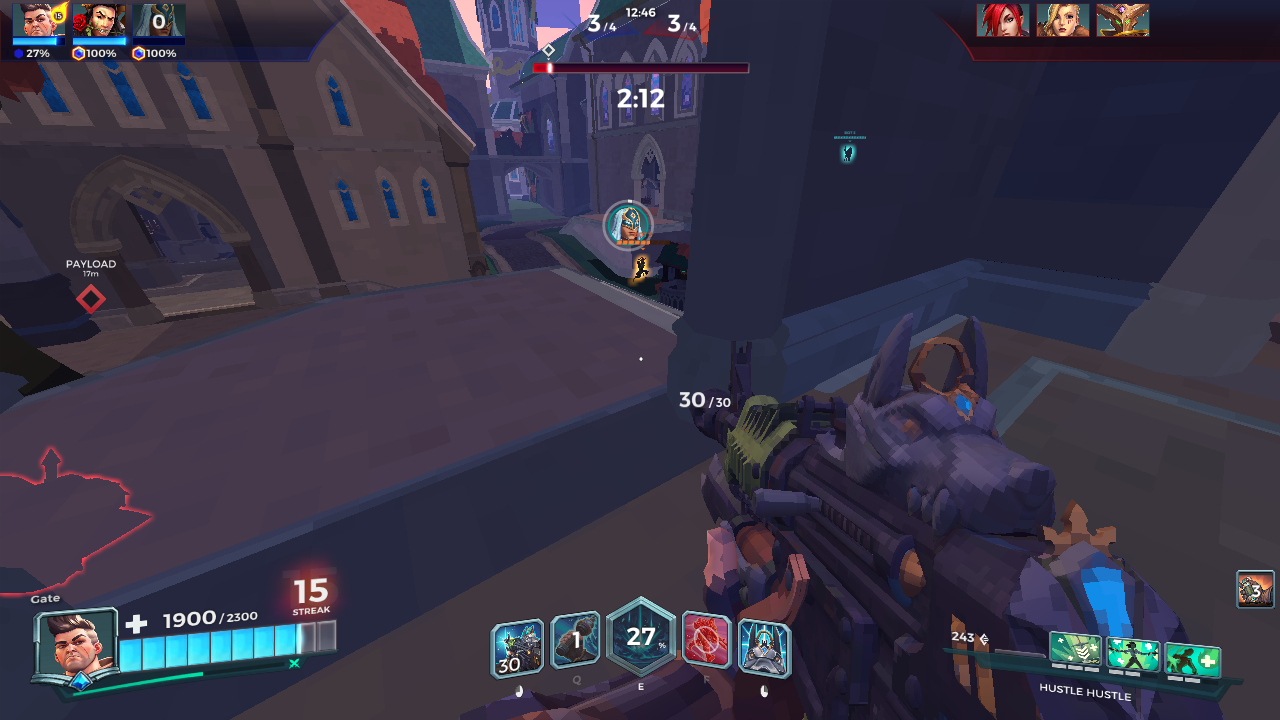model: (629, 251, 660, 284)
